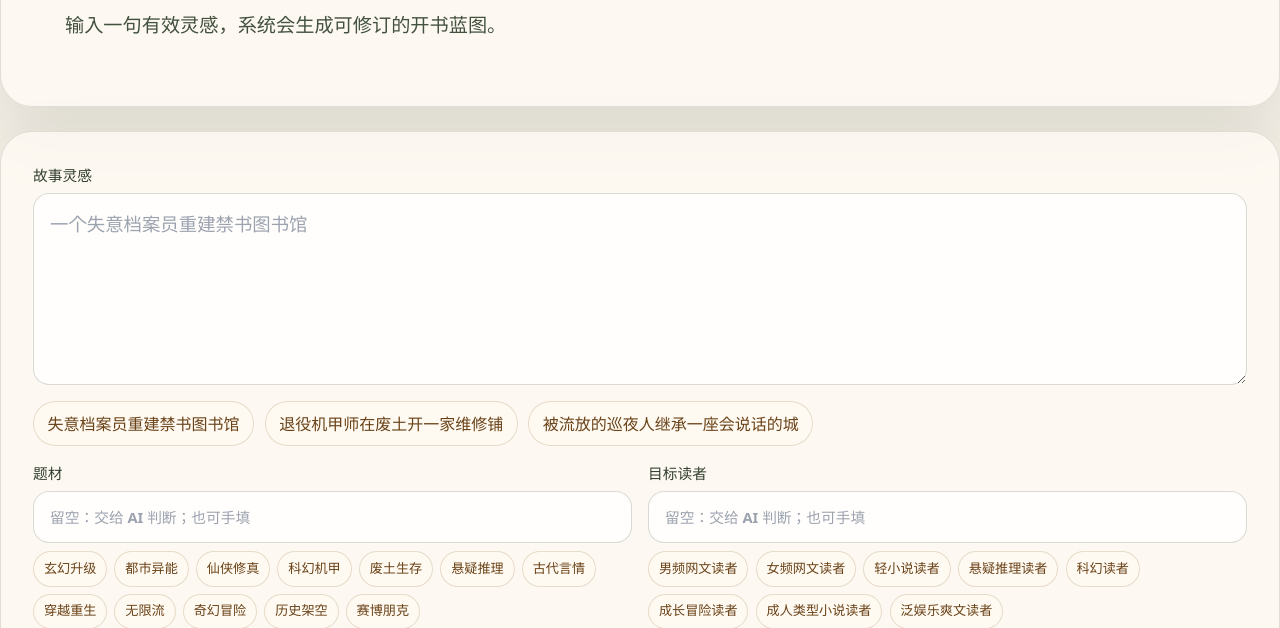
renders animated AI waiting state while open-book submit is pending
This screenshot has width=1280, height=628.
Type "失意档案员重建禁书图书馆" into the text box labelled "故事灵感".
click(640, 289); type("失意档案员重建禁书图书馆")  # box left=33, top=193, right=1247, bottom=385
(page scrolled)
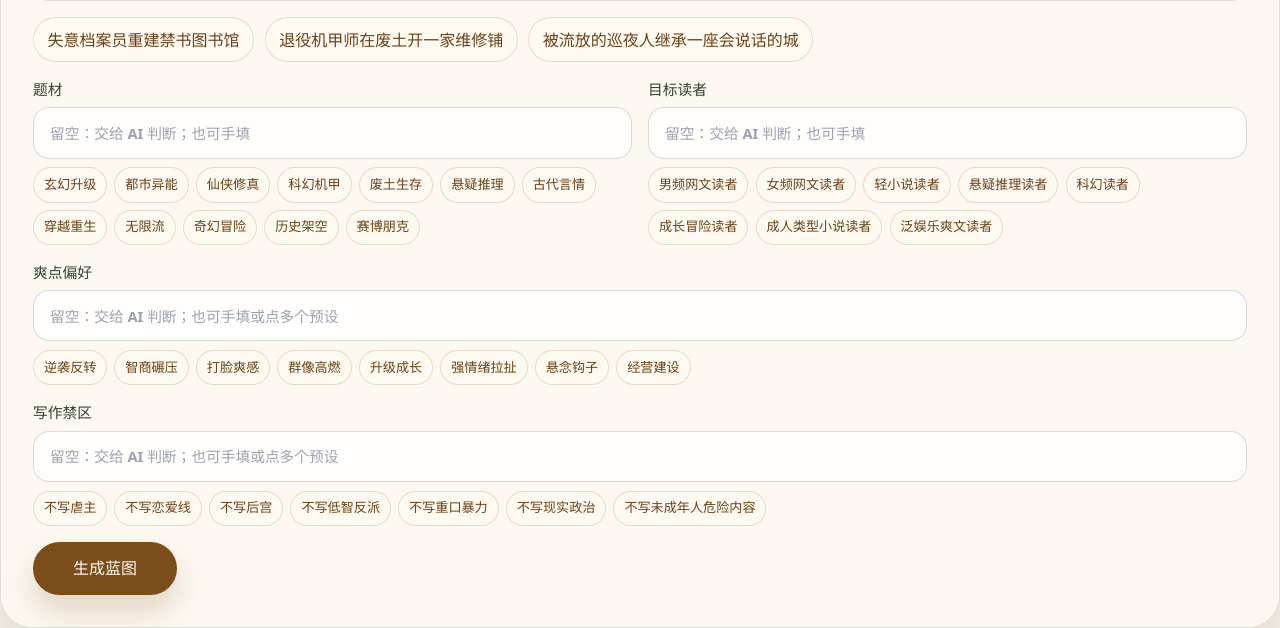
Click the button "生成蓝图".
click(105, 568)  # box left=33, top=542, right=177, bottom=595
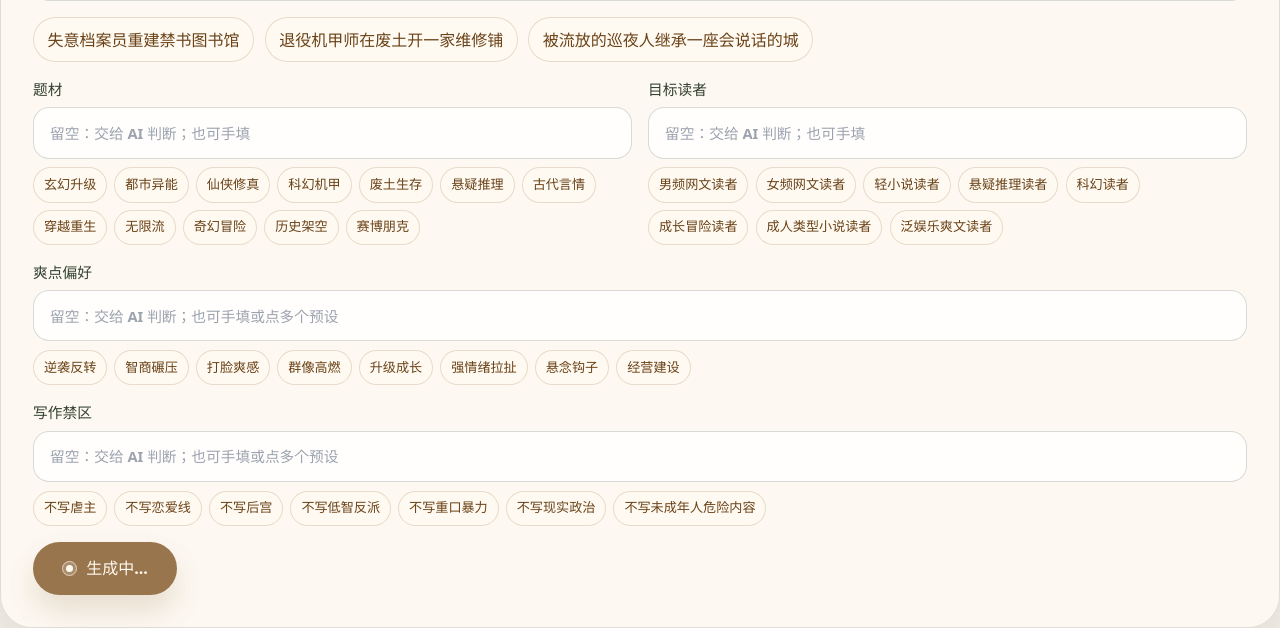
Expected: the element with test id "ai-waiting-indicator" reads "生成中...", left=86, top=557, right=148, bottom=579
Expected: the button "生成中..." is disabled, left=33, top=542, right=177, bottom=595
